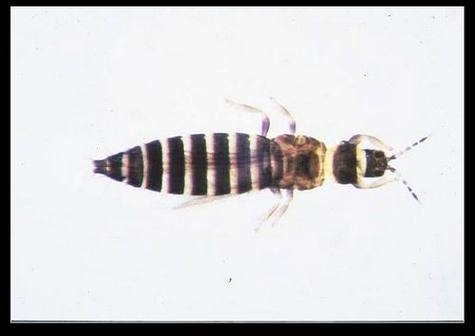Thripidae: (93, 98, 429, 235)
